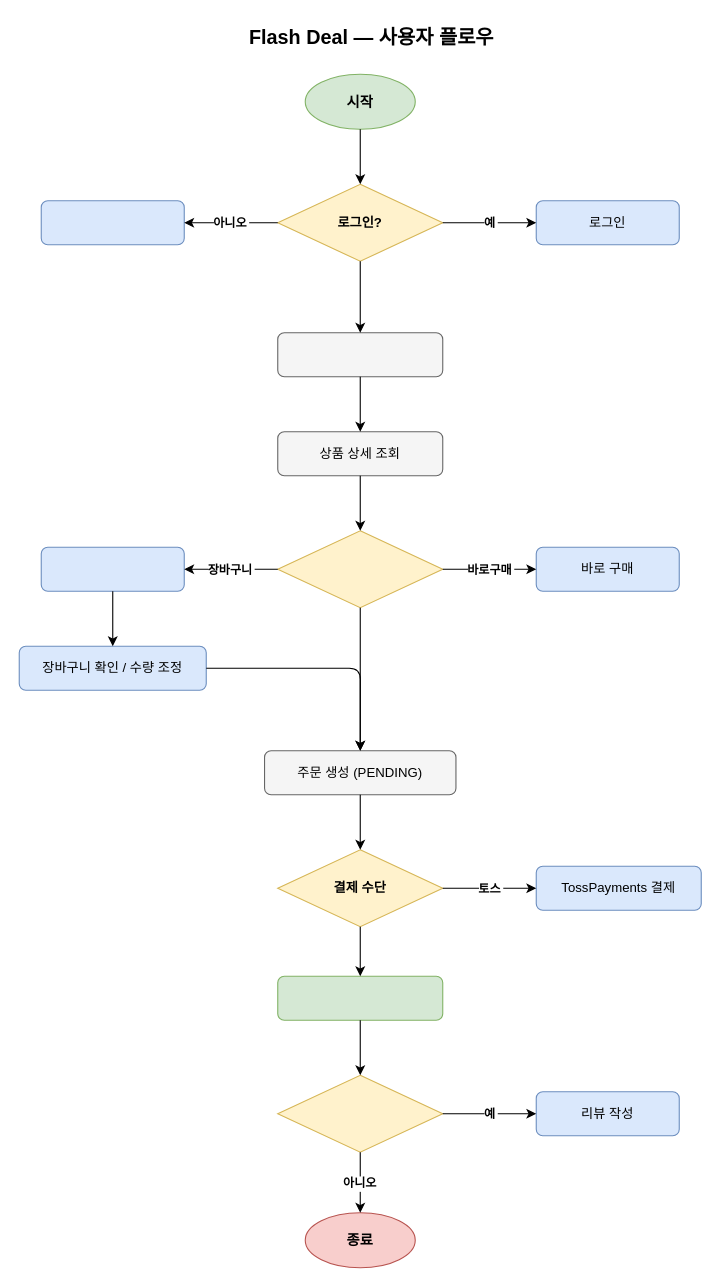
Some shapes in this 721 by 1287 pixel diagram are drawn without their labels. The centre of each missing label's shape, as x and y in pixels:
"결제 완료 (PAID)" belongs at point 360,997.
"구매 방식" belongs at point 360,569.
"배송 완료?" belongs at point 360,1113.
"상품 목록 조회" belongs at point 360,354.
"장바구니 담기" belongs at point 112,568.
"회원가입" belongs at point 112,222.
